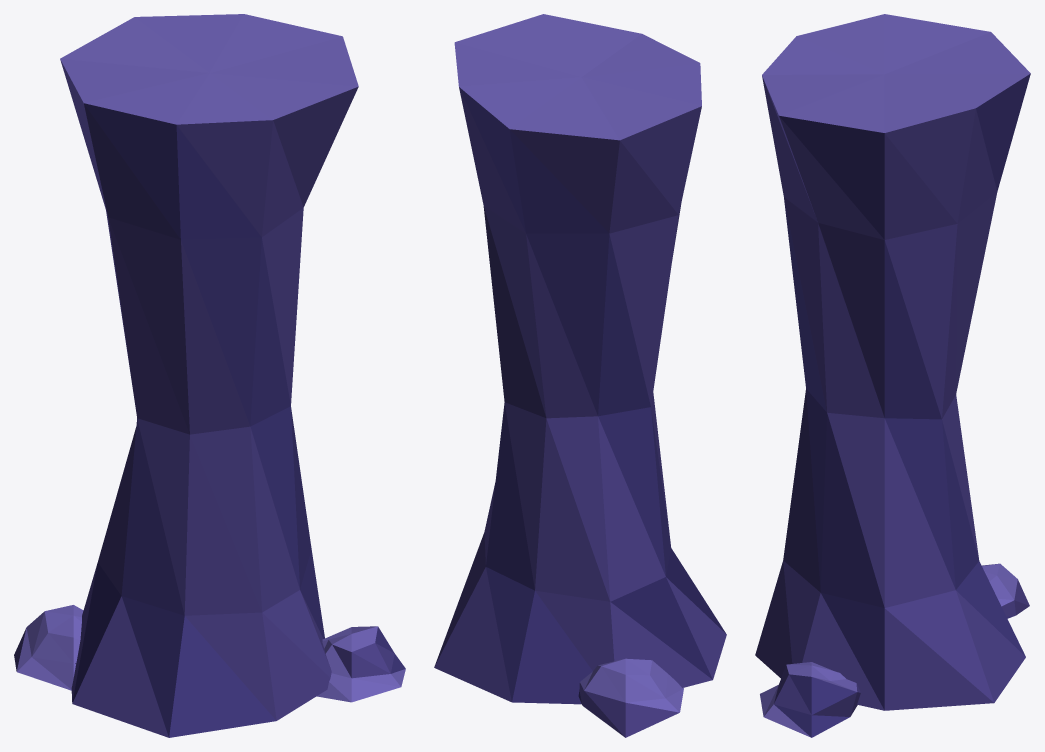
Rendered from Mine_Rock_Pillar.obj.
3 views of the same model, side by side, from view 1: azimuth 30°, elevation 25°; view 2: azimuth 150°, elevation 25°; view 3: azimuth 270°, elevation 25° (orthographic). The views are drawn at different scales.
Visible parts, largest first — view 1: Mine_Rock_Pillar; view 2: Mine_Rock_Pillar; view 3: Mine_Rock_Pillar.
Part boxes in pixels (bbox=[...]): Mine_Rock_Pillar: bbox=[14, 14, 405, 737]; Mine_Rock_Pillar: bbox=[434, 14, 726, 737]; Mine_Rock_Pillar: bbox=[755, 14, 1030, 737].
Size of the model in its own units: 2.35 by 4.49 by 1.89.
